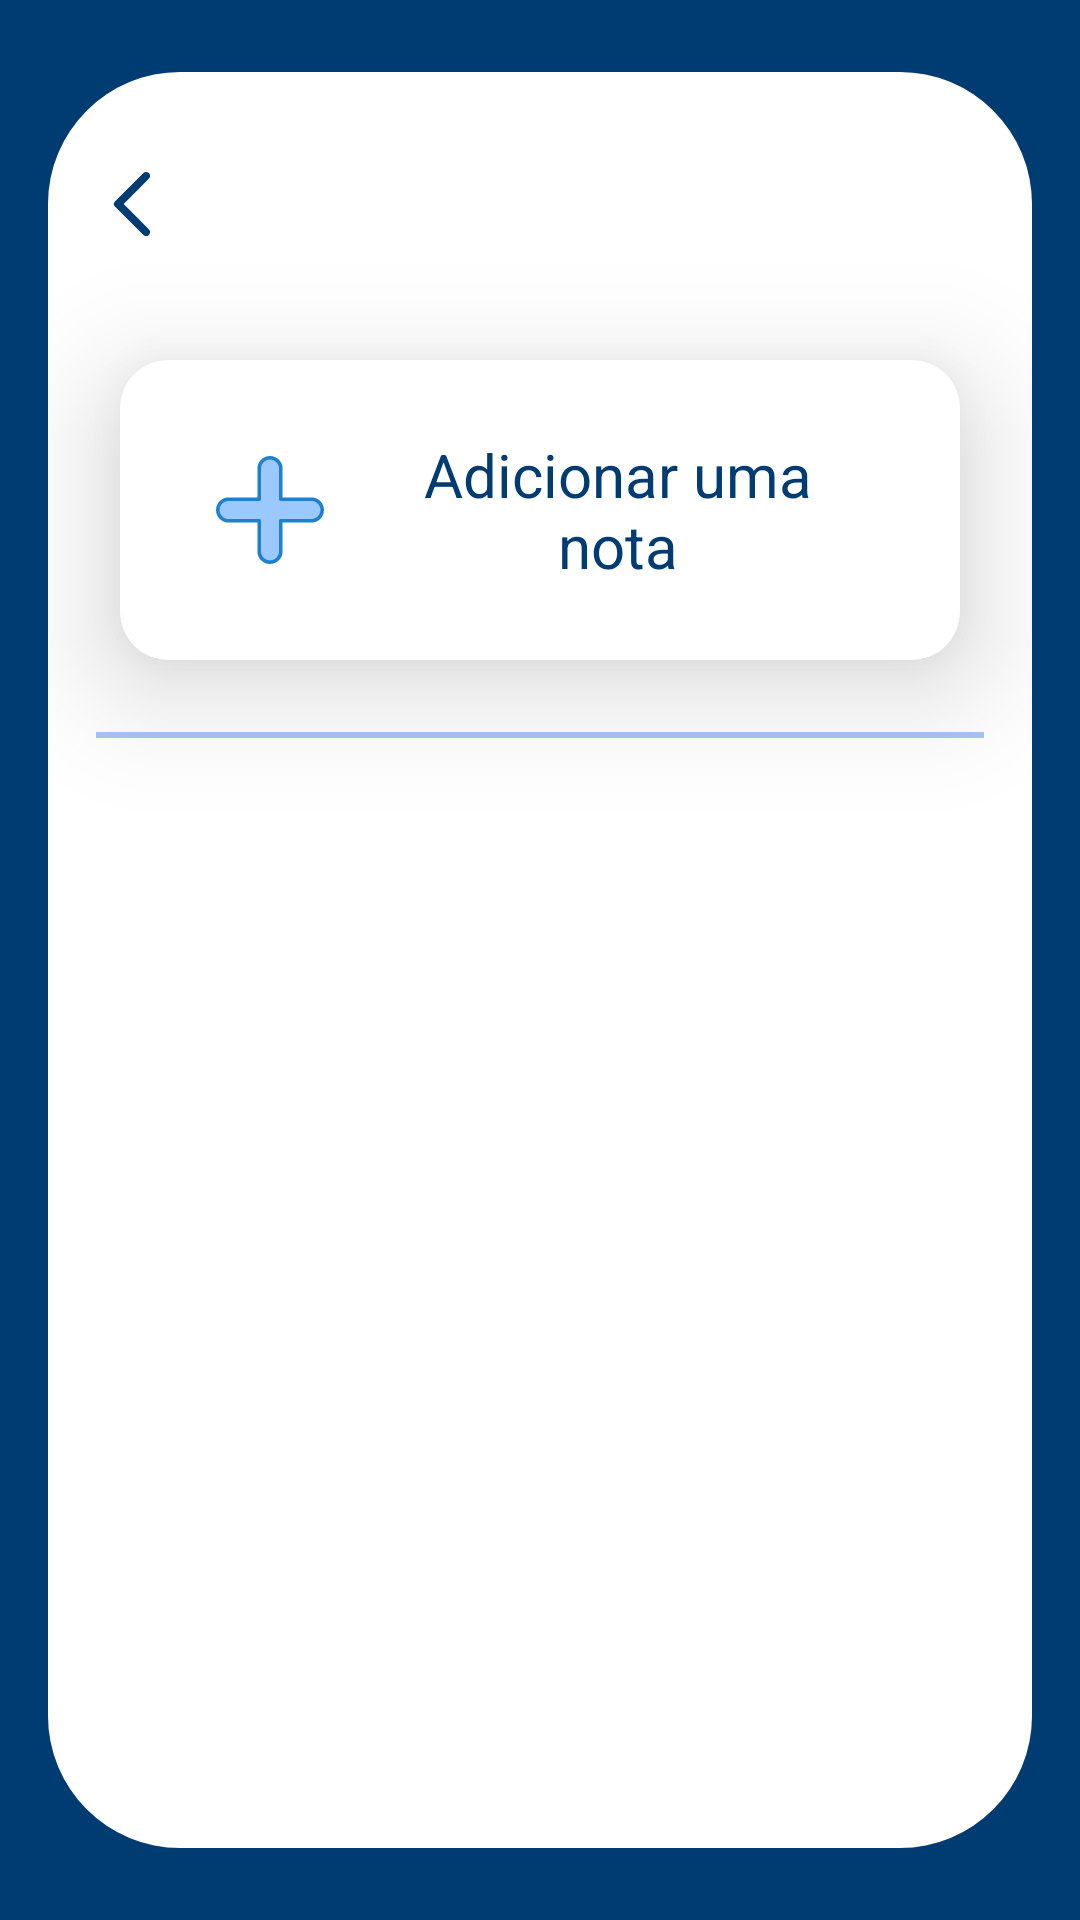

Icon click points for this 1080px x 1920px phone screenshot, format (x,y):
add: (270,510)
